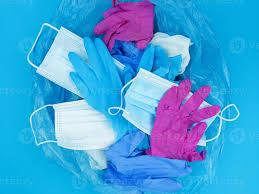Glove: (69, 37, 129, 138), (146, 79, 219, 161), (105, 130, 190, 191), (94, 0, 153, 50), (138, 44, 181, 80), (110, 40, 143, 71)
Mask: (27, 23, 88, 96), (30, 100, 115, 149), (119, 68, 176, 134), (151, 32, 191, 73)
